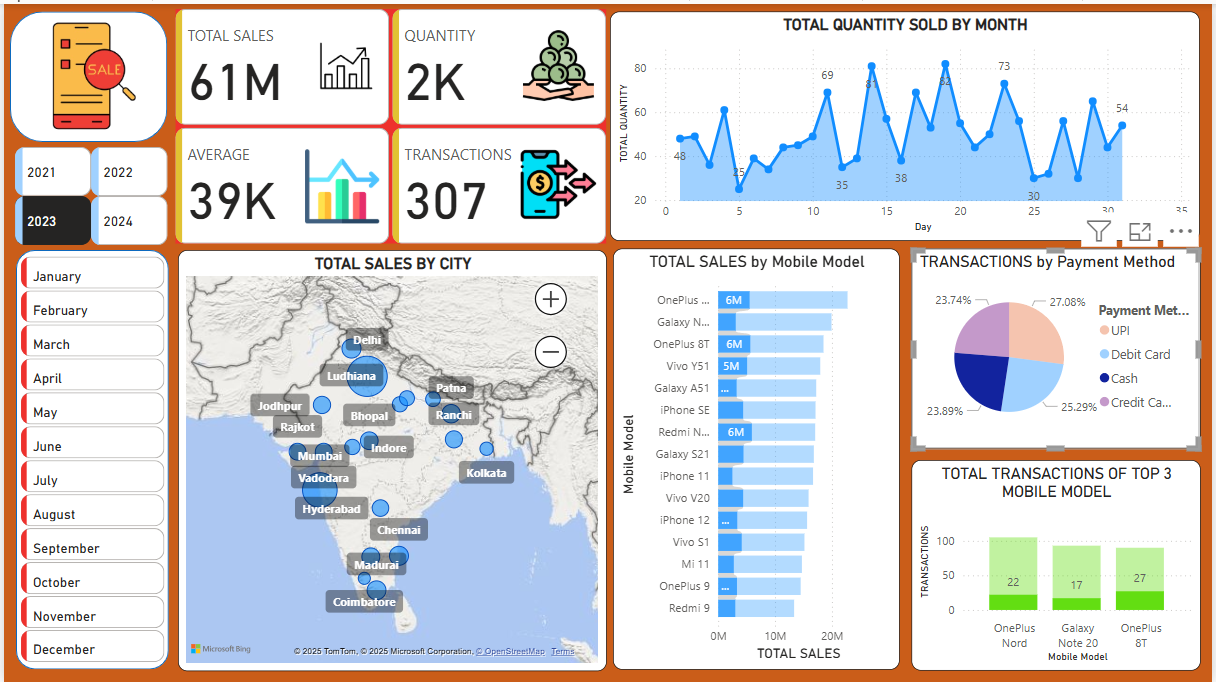

This screenshot's page, from the dashboard's own definition file:
{"tool":"powerbi","page":{"name":"Page 1","canvas":[1280,720],"ordinal":0},"visuals":[{"type":"shape","box":[12.1,260.3,162.1,444.8],"z":0},{"type":"advancedSlicerVisual","fields":{"Values":["Sales data.Date.Variation.Date Hierarchy.Month"]},"box":[12.1,262.1,162.1,443.1],"z":1000},{"type":"cardVisual","fields":{"Data":["Sales data.TOTAL SALES","Sales data.TOTAL QUANTITY","Sales data.AVERAGE","Sales data.TRANSACTIONS"]},"box":[176,0,468,260],"z":2000},{"type":"map","title":"TOTAL SALES BY CITY      ","fields":{"Category":["Sales data.City"],"Size":["Sales data.TOTAL SALES"]},"box":[184,260,456,446],"z":3000},{"type":"lineChart","title":"TOTAL QUANTITY SOLD BY MONTH","fields":{"Y":["Sales data.TOTAL QUANTITY"],"Category":["Sales data.Date.Variation.Date Hierarchy.Month","Sales data.Date.Variation.Date Hierarchy.Day"]},"box":[643.3,8.3,625,243.3],"z":4000},{"type":"clusteredColumnChart","title":"TOTAL TRANSACTIONS OF TOP 3 MOBILE MODEL","fields":{"Category":["Sales data.Mobile Model"],"Y":["Sales data.TRANSACTIONS"]},"box":[961.7,483.3,306.7,223.3],"z":5000},{"type":"pieChart","fields":{"Category":["Sales data.Payment Method"],"Y":["Sales data.TRANSACTIONS"]},"box":[961.7,260,306.7,211.7],"z":6000},{"type":"barChart","fields":{"Category":["Sales data.Mobile Model"],"Y":["Sales data.TOTAL SALES"]},"box":[645,261.7,305,443.3],"z":7000},{"type":"advancedSlicerVisual","fields":{"Values":["Sales data.Date.Variation.Date Hierarchy.Year"]},"box":[6.7,146.7,173.3,115],"z":8000},{"type":"shape","box":[6.7,8.3,166.7,138.3],"z":9000},{"type":"image","box":[15,8.3,158.3,135],"z":9001}]}

Visuals, with their boxes in screenshot pixels (x1, y1, x2, y2), scaled from the page's 1280x720 canvas onto the 1216x682 screenshot:
shape: <bbox>11, 247, 165, 668</bbox>
advancedSlicerVisual - Sales data.Date.Variation.Date Hierarchy.Month: <bbox>11, 248, 165, 668</bbox>
cardVisual - Sales data.TOTAL SALES x Sales data.TOTAL QUANTITY: <bbox>167, 0, 612, 246</bbox>
"TOTAL SALES BY CITY      " map: <bbox>175, 246, 608, 669</bbox>
"TOTAL QUANTITY SOLD BY MONTH" lineChart: <bbox>611, 8, 1205, 238</bbox>
"TOTAL TRANSACTIONS OF TOP 3 MOBILE MODEL" clusteredColumnChart: <bbox>914, 458, 1205, 669</bbox>
pieChart - Sales data.Payment Method x Sales data.TRANSACTIONS: <bbox>914, 246, 1205, 447</bbox>
barChart - Sales data.Mobile Model x Sales data.TOTAL SALES: <bbox>613, 248, 902, 668</bbox>
advancedSlicerVisual - Sales data.Date.Variation.Date Hierarchy.Year: <bbox>6, 139, 171, 248</bbox>
shape: <bbox>6, 8, 165, 139</bbox>
image: <bbox>14, 8, 165, 136</bbox>
